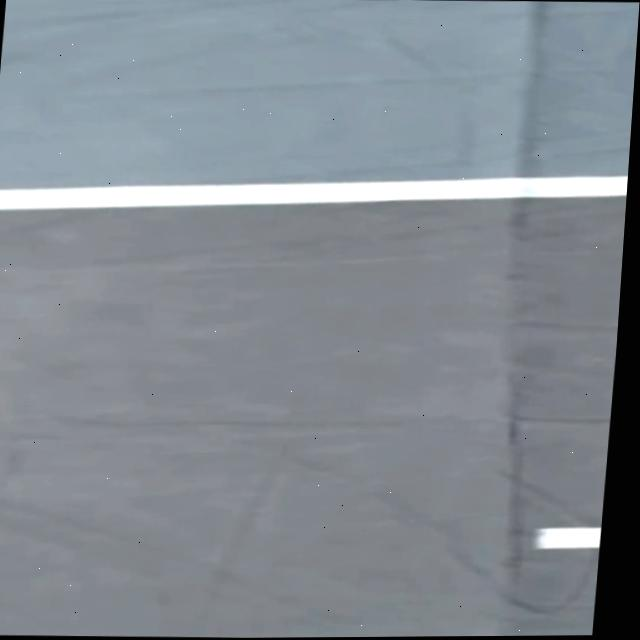center: (534, 525, 601, 546)
left: (0, 175, 628, 208)
